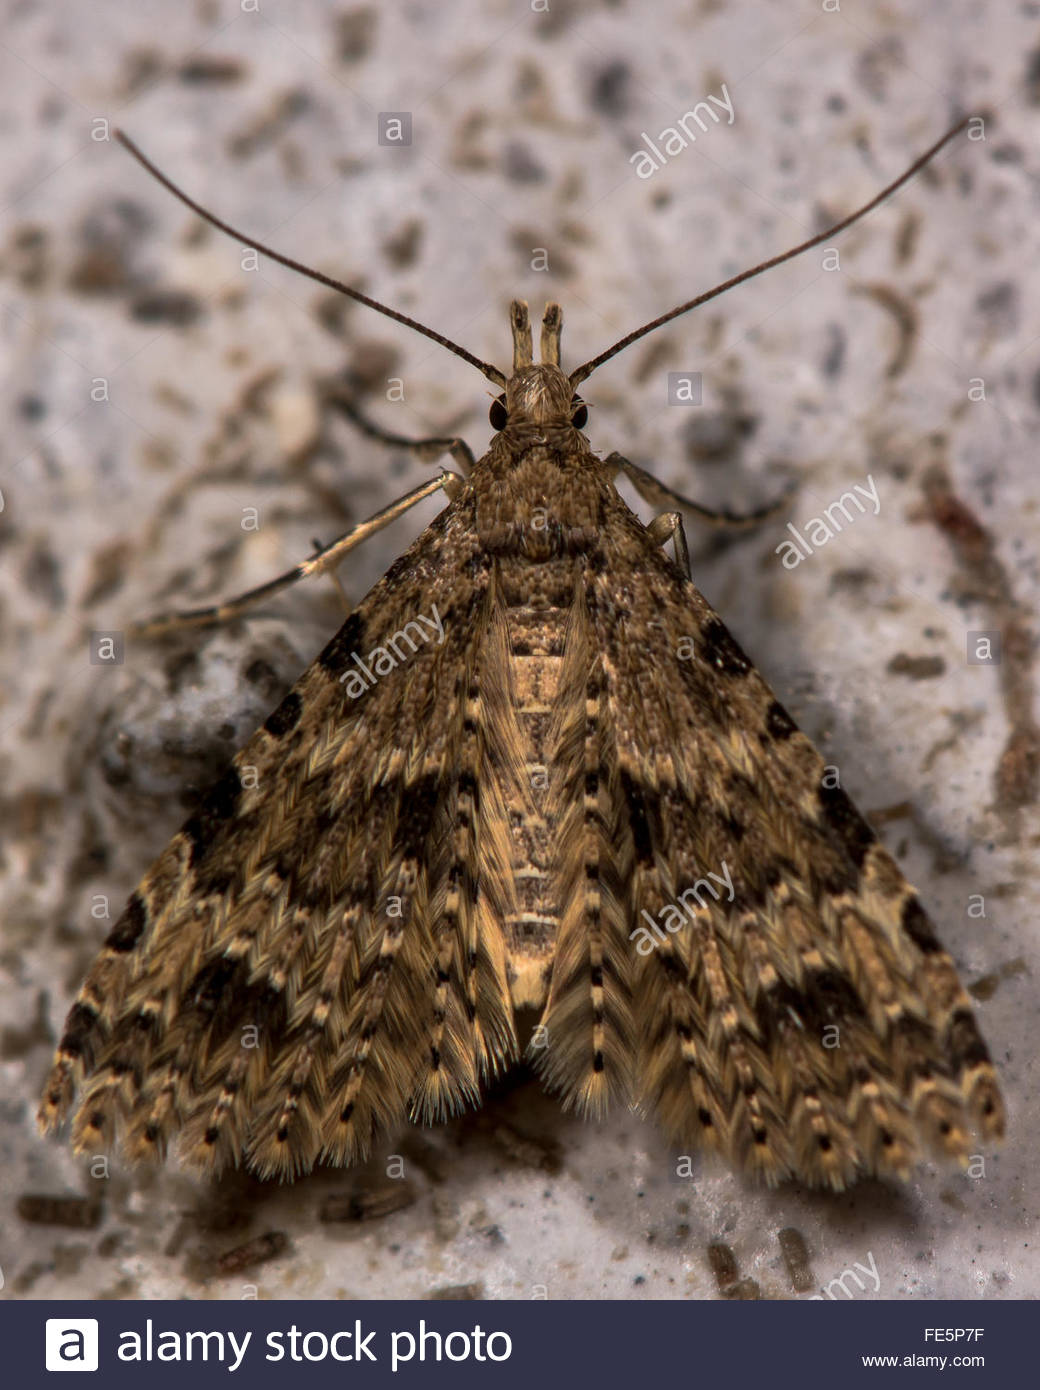Alucitidae: (17, 79, 1000, 1199)
moth: (19, 81, 1002, 1201)
